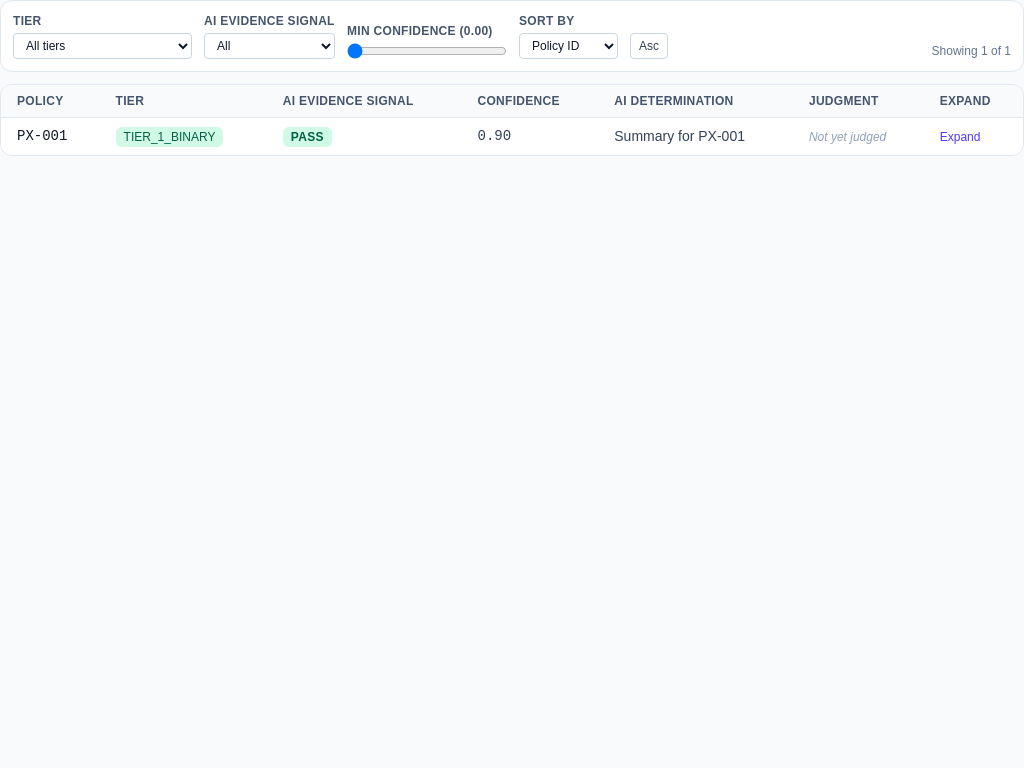
it: evidence reference matching (L3A R3/X3 as amended) › table-level: legacy keyed-object pathway_notes routes to JsonObjectView (R5)
The width and height of the screenshot is (1024, 768).
Click the button with test id "per-policy-expand-toggle".
click(960, 137)  # box x1=940 y1=129 x2=980 y2=145
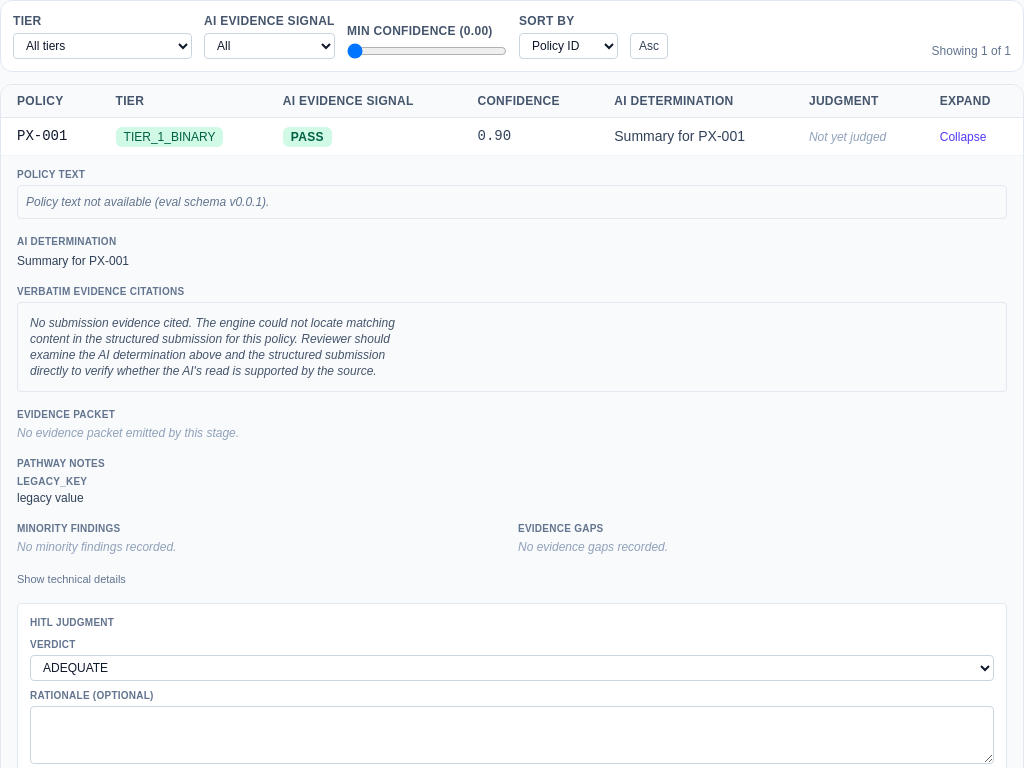
Result: the element with test id "per-policy-pathway-notes" shows "legacy_key" at x1=17 y1=476 x2=87 y2=487
